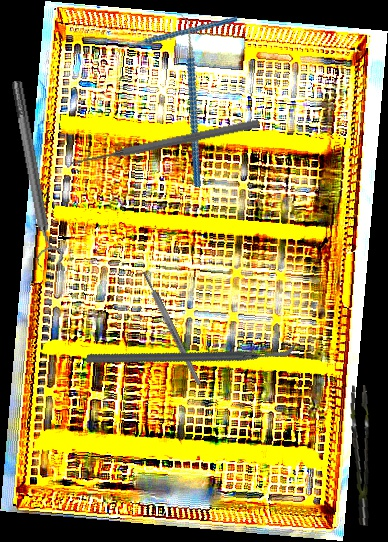Chopper: (84, 271, 300, 435), (133, 13, 245, 188), (113, 5, 238, 69)
Fixation Ring: (3, 78, 65, 269)
Pusher: (69, 117, 261, 169)
Scalpel Handle: (140, 269, 203, 387)
Tissue Forceps: (339, 384, 381, 526)
